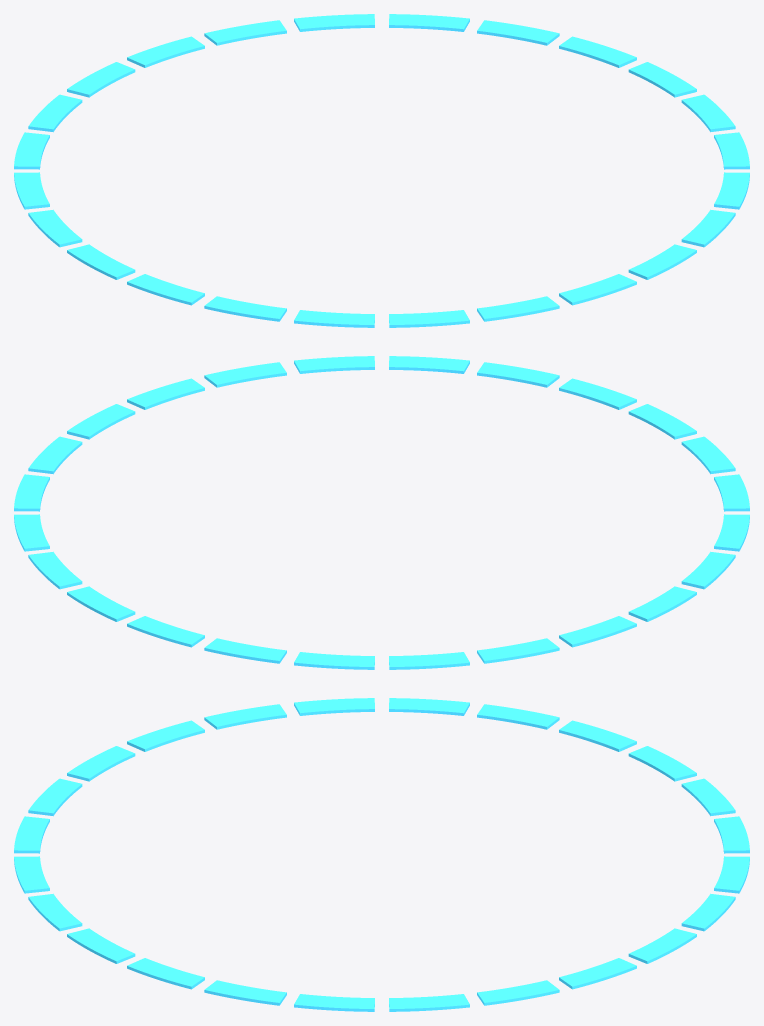
The model's file is timer-inserts.glb.
3 views of the same model, one above another, from view 1: azimuth 30°, elevation 25°; view 2: azimuth 150°, elevation 25°; view 3: azimuth 270°, elevation 25° (orthographic).
Parts seen in each view (by area): view 1: TIMER_SEGMENT_00.001, TIMER_SEGMENT_03.001, TIMER_SEGMENT_12.001, TIMER_SEGMENT_15.001, TIMER_SEGMENT_01.001, TIMER_SEGMENT_02.001, TIMER_SEGMENT_13.001, TIMER_SEGMENT_14.001, TIMER_SEGMENT_04.001, TIMER_SEGMENT_11.001, TIMER_SEGMENT_16.001, TIMER_SEGMENT_23.001 (+12 smaller); view 2: TIMER_SEGMENT_08.001, TIMER_SEGMENT_11.001, TIMER_SEGMENT_20.001, TIMER_SEGMENT_23.001, TIMER_SEGMENT_09.001, TIMER_SEGMENT_10.001, TIMER_SEGMENT_21.001, TIMER_SEGMENT_22.001, TIMER_SEGMENT_00.001, TIMER_SEGMENT_07.001, TIMER_SEGMENT_12.001, TIMER_SEGMENT_19.001 (+12 smaller); view 3: TIMER_SEGMENT_04.001, TIMER_SEGMENT_07.001, TIMER_SEGMENT_16.001, TIMER_SEGMENT_19.001, TIMER_SEGMENT_05.001, TIMER_SEGMENT_06.001, TIMER_SEGMENT_17.001, TIMER_SEGMENT_18.001, TIMER_SEGMENT_03.001, TIMER_SEGMENT_08.001, TIMER_SEGMENT_15.001, TIMER_SEGMENT_20.001 (+12 smaller).
Boxes of the visible parts, <box> form: TIMER_SEGMENT_00.001: <box>204,20,286,45</box>; TIMER_SEGMENT_03.001: <box>477,20,559,45</box>; TIMER_SEGMENT_12.001: <box>477,296,559,321</box>; TIMER_SEGMENT_15.001: <box>204,296,286,321</box>; TIMER_SEGMENT_01.001: <box>294,14,374,31</box>; TIMER_SEGMENT_02.001: <box>389,14,469,31</box>; TIMER_SEGMENT_13.001: <box>389,310,469,327</box>; TIMER_SEGMENT_14.001: <box>294,310,374,327</box>; TIMER_SEGMENT_04.001: <box>559,36,636,67</box>; TIMER_SEGMENT_11.001: <box>559,274,636,305</box>; TIMER_SEGMENT_16.001: <box>127,274,204,305</box>; TIMER_SEGMENT_23.001: <box>127,36,204,67</box>; TIMER_SEGMENT_08.001: <box>204,362,286,387</box>; TIMER_SEGMENT_11.001: <box>477,362,559,387</box>; TIMER_SEGMENT_20.001: <box>477,638,559,663</box>; TIMER_SEGMENT_23.001: <box>204,638,286,663</box>; TIMER_SEGMENT_09.001: <box>294,356,374,373</box>; TIMER_SEGMENT_10.001: <box>389,356,469,373</box>; TIMER_SEGMENT_21.001: <box>389,652,469,669</box>; TIMER_SEGMENT_22.001: <box>294,652,374,669</box>; TIMER_SEGMENT_00.001: <box>127,616,204,647</box>; TIMER_SEGMENT_07.001: <box>127,378,204,409</box>; TIMER_SEGMENT_12.001: <box>559,378,636,409</box>; TIMER_SEGMENT_19.001: <box>559,616,636,647</box>; TIMER_SEGMENT_04.001: <box>477,980,559,1005</box>; TIMER_SEGMENT_07.001: <box>204,980,286,1005</box>; TIMER_SEGMENT_16.001: <box>204,704,286,729</box>; TIMER_SEGMENT_19.001: <box>477,704,559,729</box>; TIMER_SEGMENT_05.001: <box>389,994,469,1011</box>; TIMER_SEGMENT_06.001: <box>294,994,374,1011</box>; TIMER_SEGMENT_17.001: <box>294,698,374,715</box>; TIMER_SEGMENT_18.001: <box>389,698,469,715</box>; TIMER_SEGMENT_03.001: <box>559,958,636,989</box>; TIMER_SEGMENT_08.001: <box>127,958,204,989</box>; TIMER_SEGMENT_15.001: <box>127,720,204,751</box>; TIMER_SEGMENT_20.001: <box>559,720,636,751</box>.
Size of the model in its own units: 0.1158 by 0.00049 by 0.1158.
